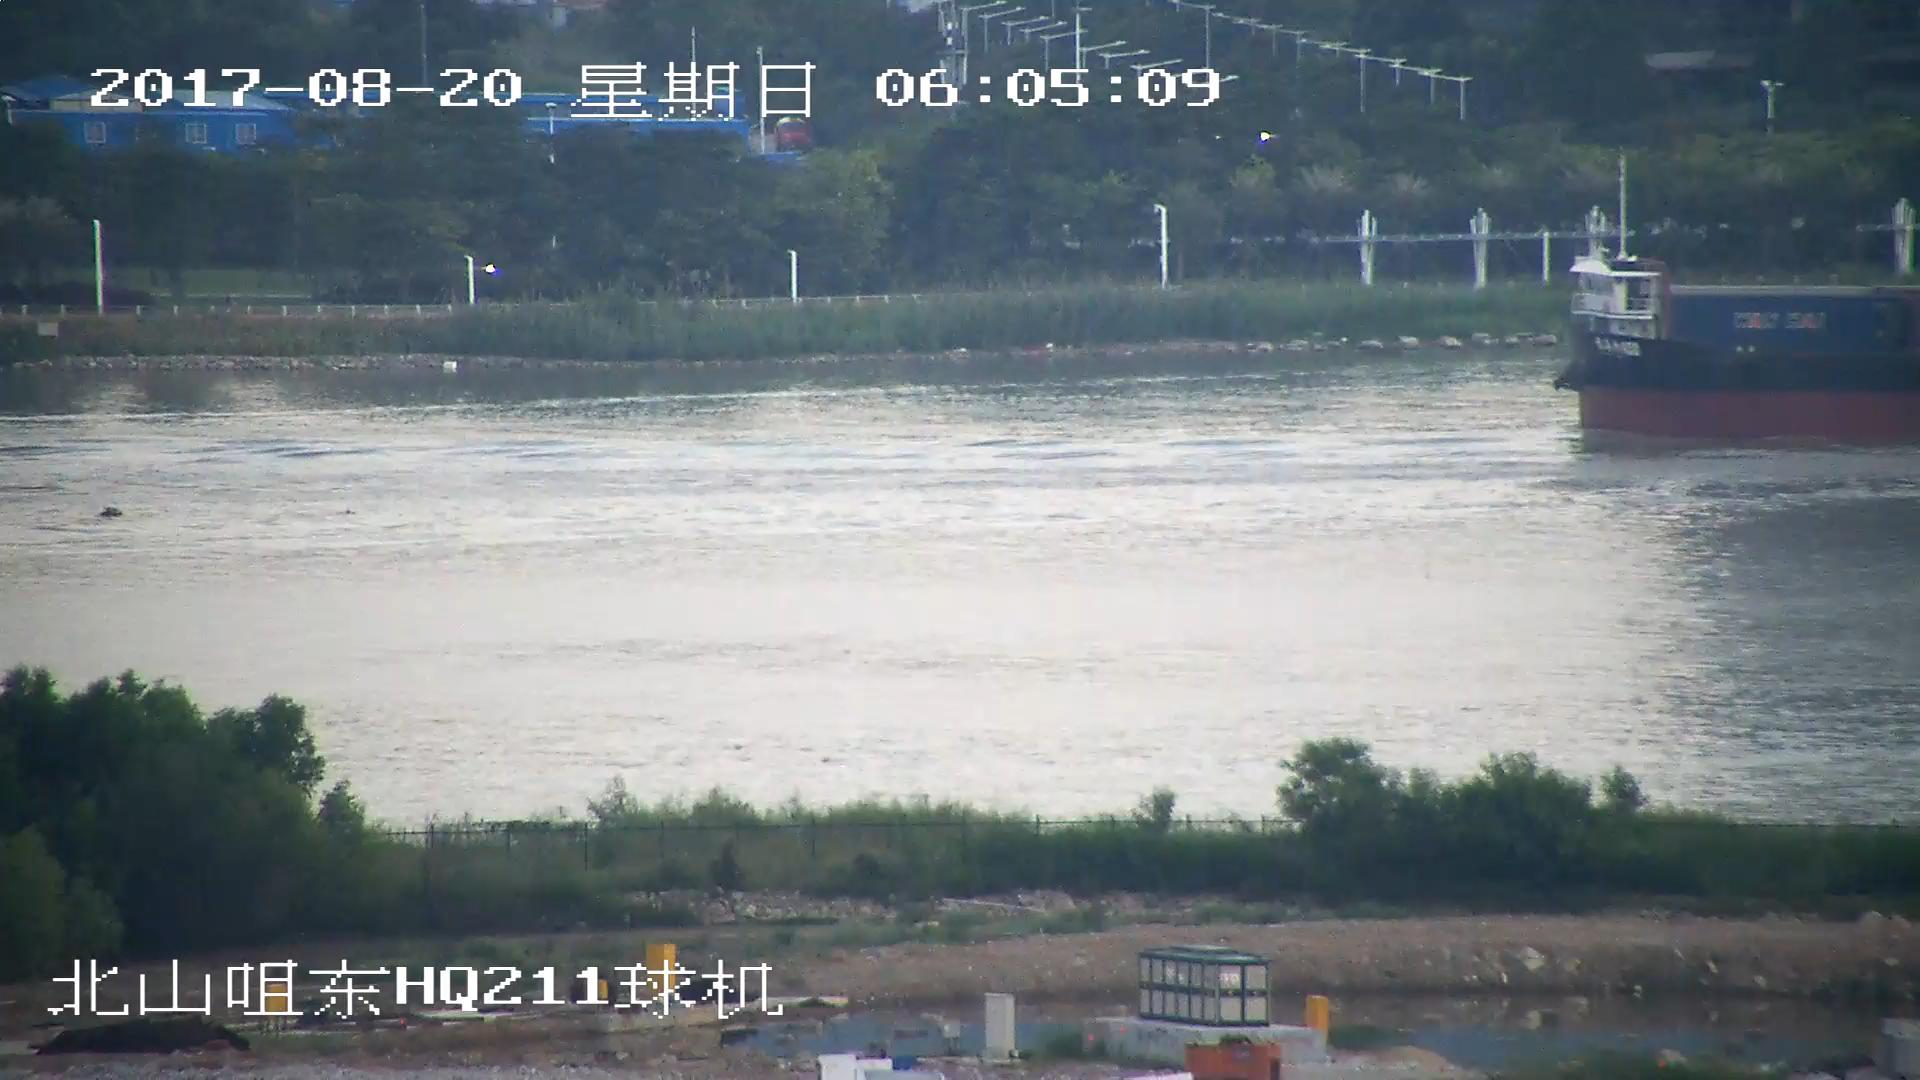Ship: (1563, 219, 1920, 442)
